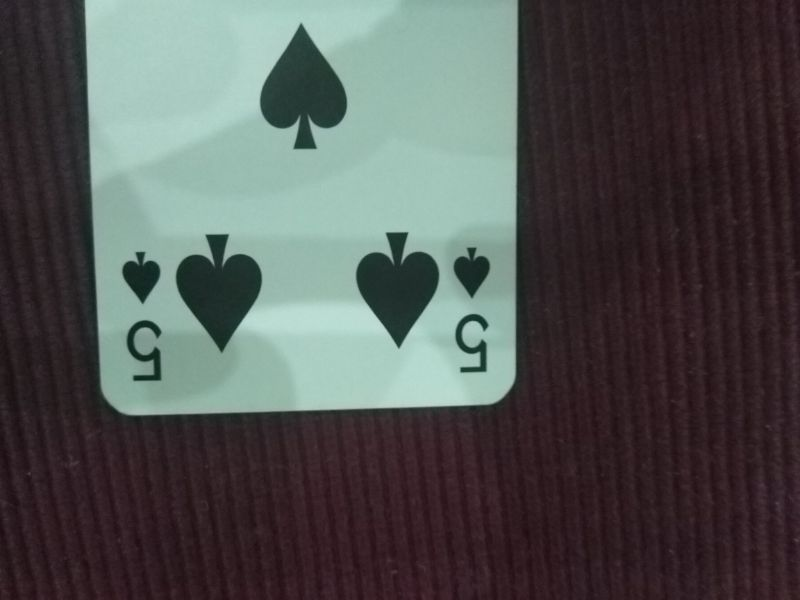5s: (114, 242, 165, 389), (447, 243, 494, 379)
